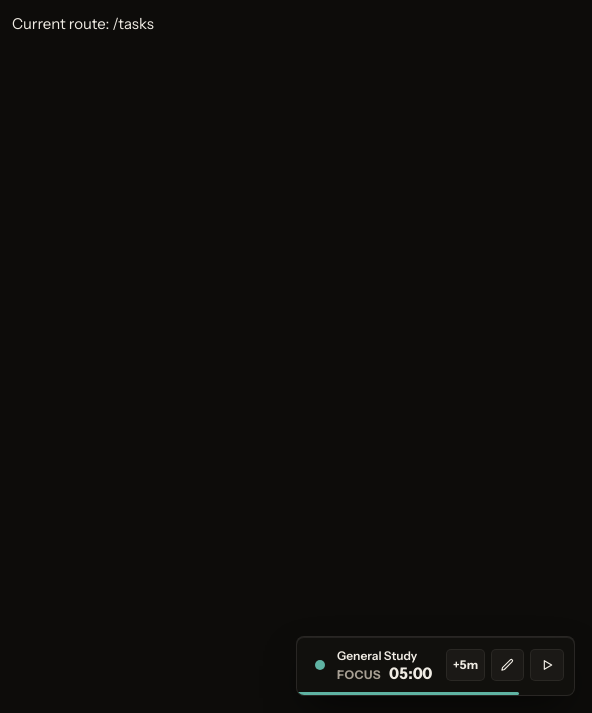
Test case: FocusStudyHUD › adds five minutes to countdown with the +5m button
Expected: the text "05:00" is shown, [389,665,432,681]
Click the button named "+5 minutes": (466, 665) [446,649,485,681]
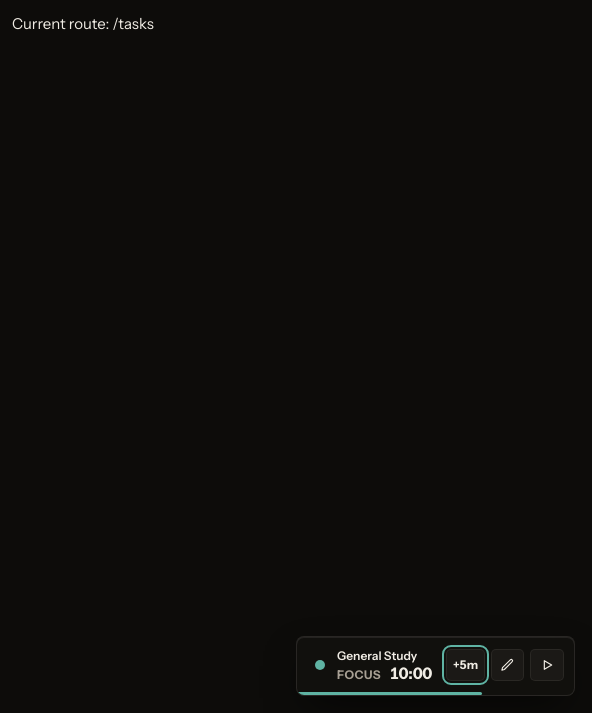
Expected: the text "10:00" is shown, [389,665,432,681]
